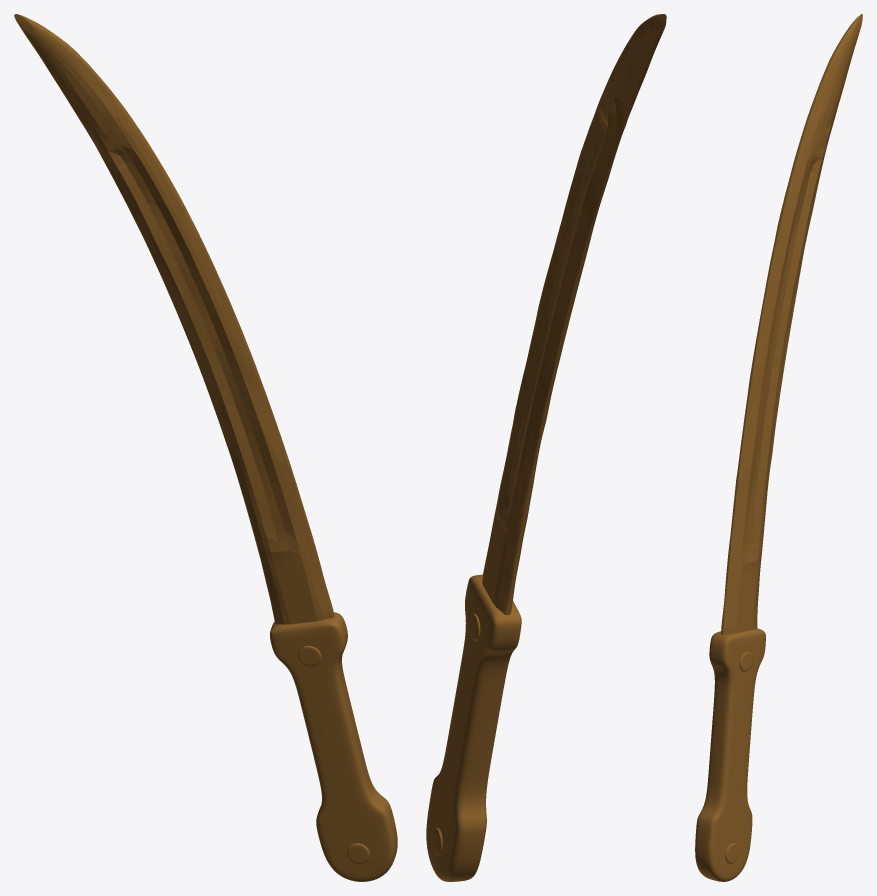
File: COSSACK_WEAPON_6#7.glb
3 views of the same model, side by side, from view 1: azimuth 30°, elevation 25°; view 2: azimuth 150°, elevation 25°; view 3: azimuth 270°, elevation 25° (orthographic). The views are drawn at different scales.
Parts seen in each view (by area): view 1: LongKindjal2; view 2: LongKindjal2; view 3: LongKindjal2.
Boxes of the visible parts, x1,y1,x2,y2 form: LongKindjal2: (14,14,397,881); LongKindjal2: (426,14,666,881); LongKindjal2: (695,14,862,881).
Bounding box in the file's own units: 1.32 × 3.72 × 0.7509.
